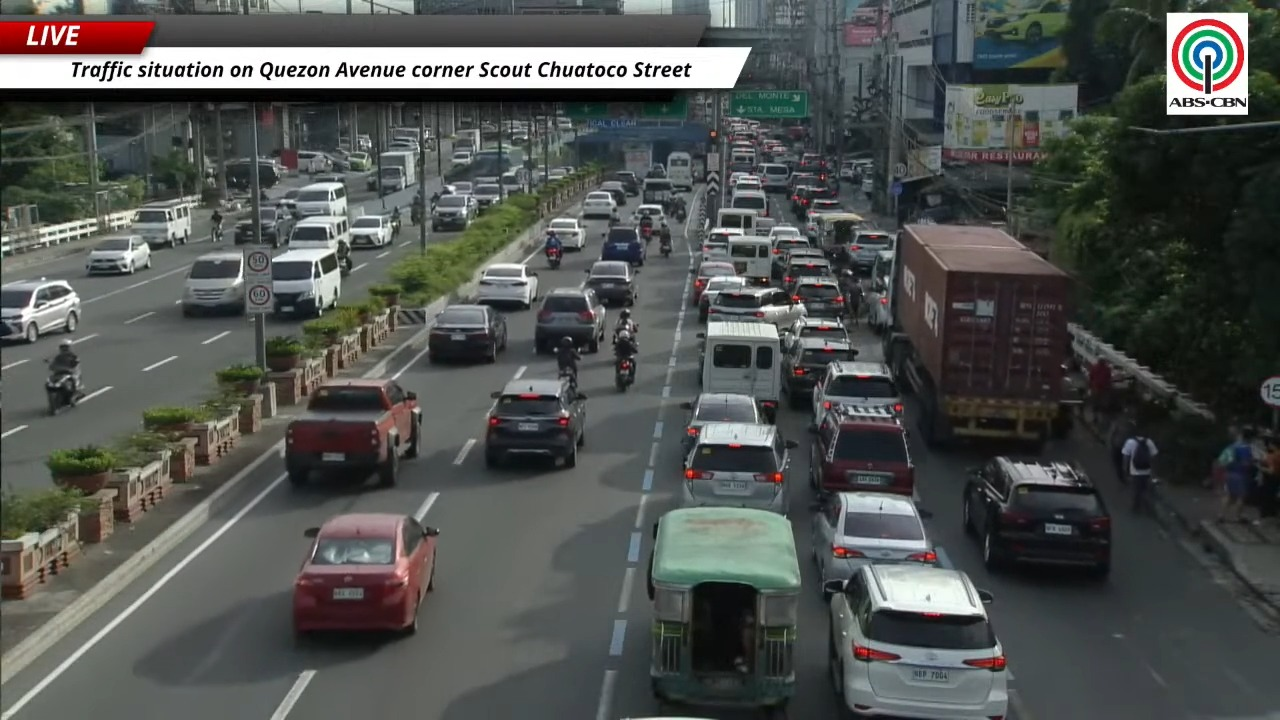bus: (666, 152, 693, 190)
car: (824, 563, 1007, 719), (292, 513, 439, 635), (962, 457, 1110, 577), (811, 492, 937, 585), (680, 422, 797, 514), (809, 405, 914, 496), (484, 378, 586, 467), (681, 393, 767, 463), (812, 361, 902, 421), (783, 337, 857, 408), (0, 279, 80, 342), (427, 304, 507, 362), (535, 287, 605, 352), (708, 287, 804, 326), (983, 0, 1067, 44), (474, 263, 538, 308), (863, 251, 894, 333), (86, 235, 151, 274), (585, 260, 638, 306), (837, 230, 894, 271), (697, 276, 747, 321), (780, 317, 850, 349), (791, 277, 846, 317), (782, 253, 834, 291), (691, 261, 737, 302), (600, 226, 646, 265), (771, 235, 811, 279), (431, 193, 477, 230), (805, 197, 846, 238), (260, 200, 295, 246), (777, 241, 826, 273), (698, 228, 743, 262), (349, 215, 392, 248), (548, 217, 585, 250), (581, 191, 617, 219), (791, 184, 815, 220), (632, 204, 666, 228), (472, 183, 502, 210), (600, 181, 627, 206), (276, 189, 299, 218), (613, 171, 640, 195), (788, 172, 817, 194), (769, 225, 802, 243), (810, 183, 838, 203), (732, 176, 763, 194), (347, 151, 371, 171), (447, 181, 475, 195), (728, 171, 752, 187), (388, 140, 419, 152), (839, 161, 857, 181), (450, 151, 472, 166), (312, 173, 344, 183), (860, 175, 874, 197), (547, 168, 568, 180), (556, 165, 576, 174)
motorcycle: (45, 370, 76, 415), (615, 356, 635, 392), (612, 321, 637, 344), (337, 241, 353, 275), (558, 368, 577, 389), (544, 248, 562, 269), (639, 224, 652, 243), (660, 237, 671, 258), (391, 217, 401, 240), (674, 205, 686, 222), (410, 207, 421, 225), (608, 216, 618, 227)
truck: (883, 224, 1072, 450), (284, 379, 421, 486), (369, 151, 418, 192), (622, 143, 653, 179), (453, 130, 481, 153)
